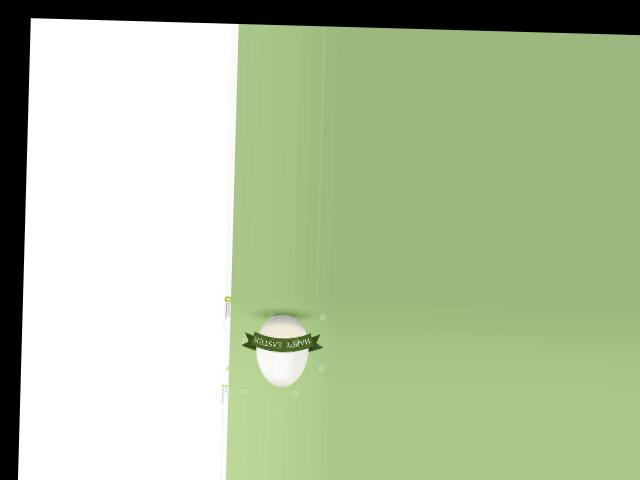egg: (254, 314, 308, 387)
